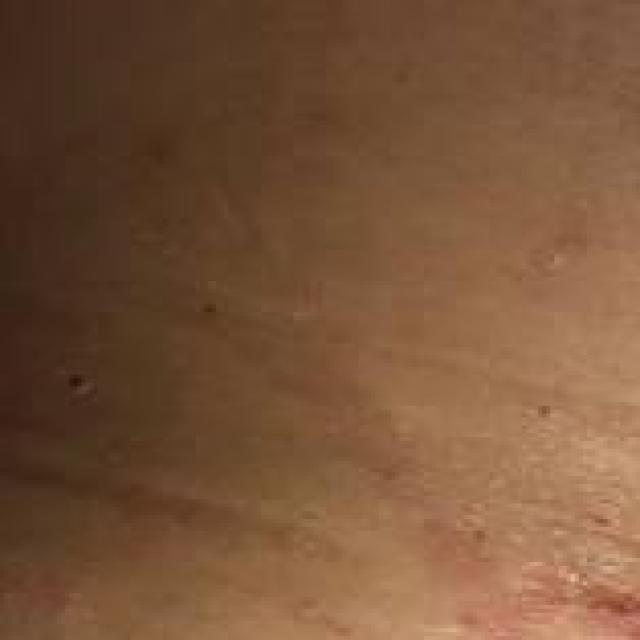wound: (166, 195, 546, 628)
